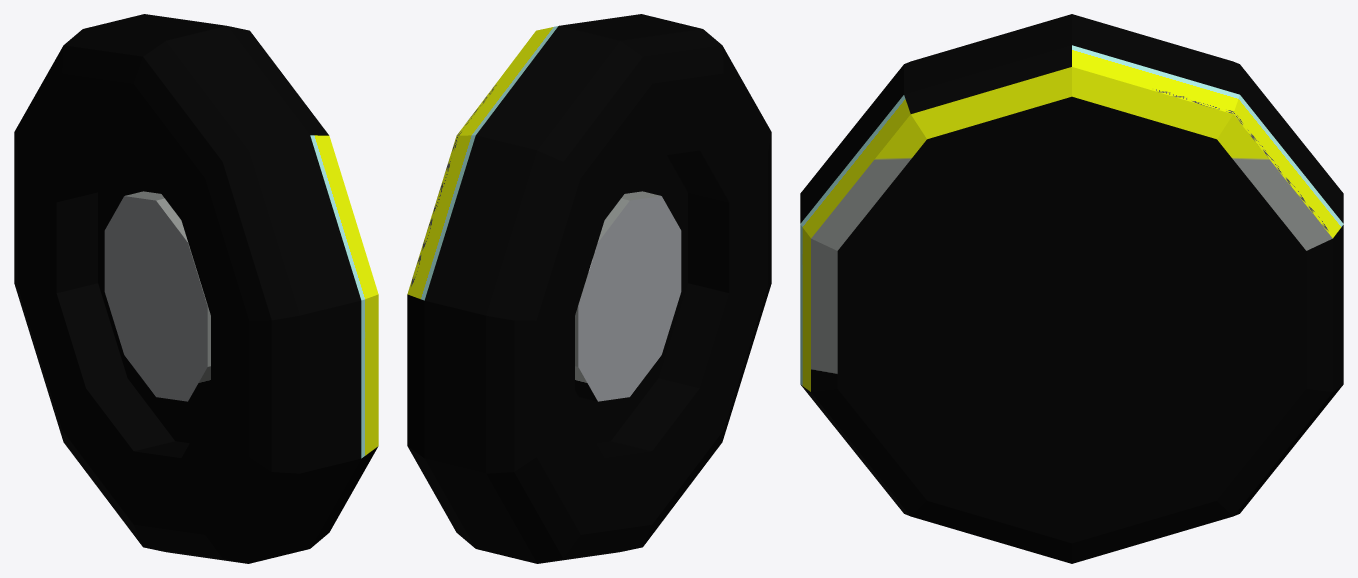
Rendered from derecho_bueno.fbx.
3 renders of one model, left to right at view 1: azimuth 30°, elevation 25°; view 2: azimuth 150°, elevation 25°; view 3: azimuth 270°, elevation 25°, orthographic.
Visible parts, largest first — view 1: Rueda.Delantera.derecha; view 2: Rueda.Delantera.derecha; view 3: Rueda.Delantera.derecha.
Part boxes in pixels (x1=…): Rueda.Delantera.derecha: x1=14, y1=14, x2=378, y2=563; Rueda.Delantera.derecha: x1=407, y1=14, x2=771, y2=563; Rueda.Delantera.derecha: x1=800, y1=14, x2=1343, y2=563.
Bounding box in the file's own units: 51.4 × 200 × 190.
Materials: 1 (1 with a texture image).
